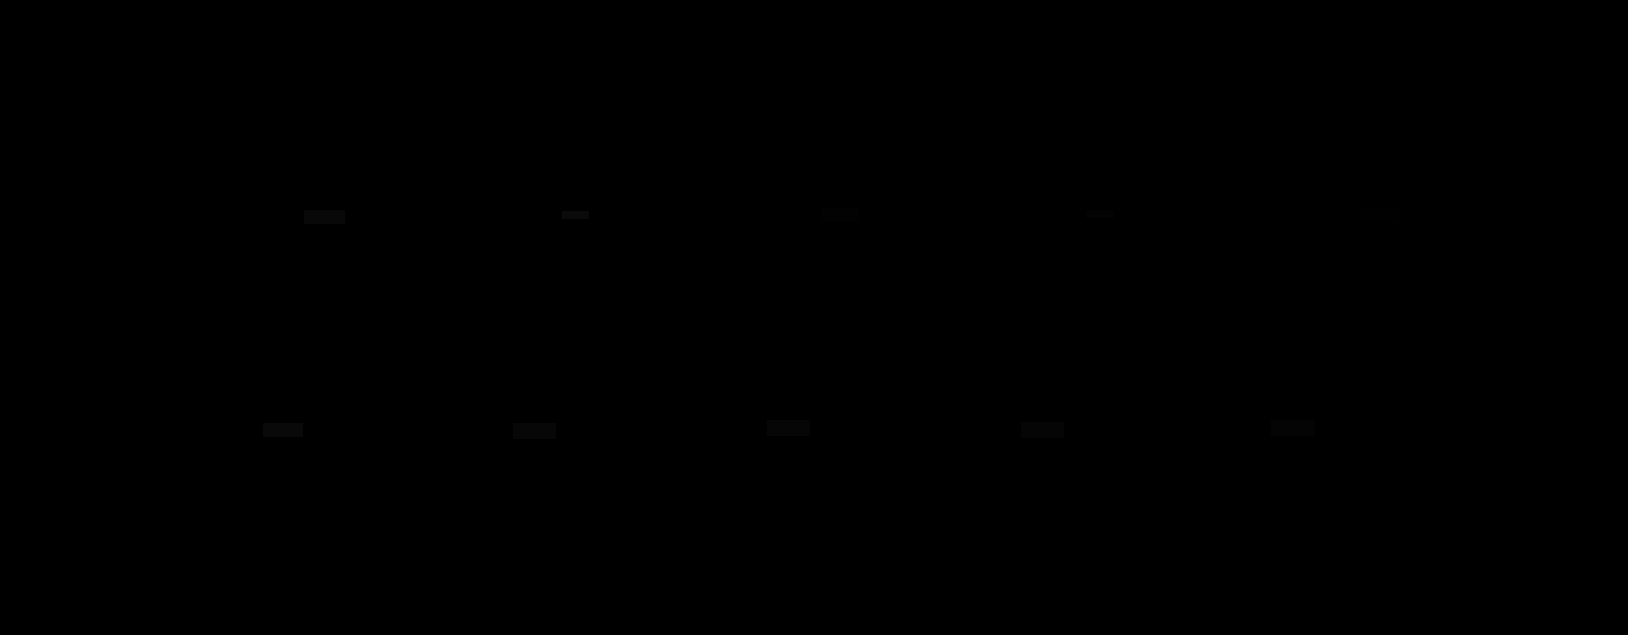light: (1271, 420, 1315, 436), (1021, 422, 1064, 438), (513, 423, 557, 439), (767, 420, 810, 436), (304, 210, 345, 224), (1360, 208, 1399, 222), (263, 423, 303, 437), (821, 208, 859, 222), (1086, 210, 1114, 218), (562, 211, 589, 219)
